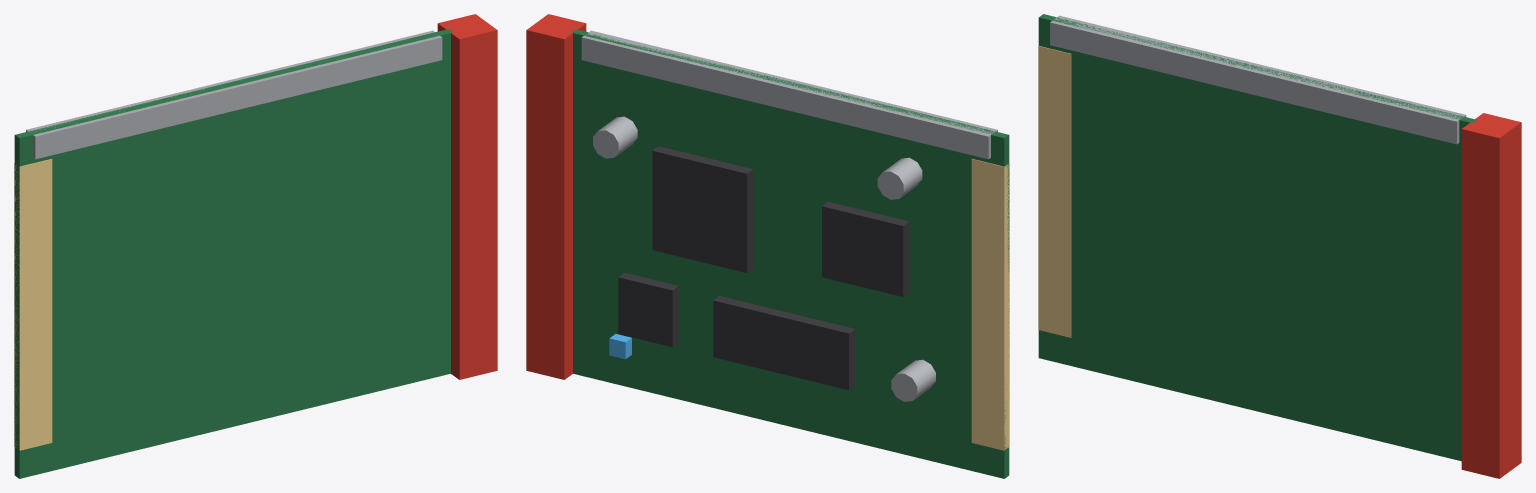
Rendered from SM_CircuitBoard.fbx.
The picture shows the model from 3 angles, left to right: view 1: azimuth 30°, elevation 25°; view 2: azimuth 150°, elevation 25°; view 3: azimuth 330°, elevation 25°; orthographic projection.
Parts seen in each view (by area): view 1: SM_CircuitBoard; view 2: SM_CircuitBoard; view 3: SM_CircuitBoard.
Boxes of the visible parts, x1=… form: SM_CircuitBoard: x1=14, y1=14, x2=497, y2=478; SM_CircuitBoard: x1=526, y1=14, x2=1009, y2=478; SM_CircuitBoard: x1=1038, y1=14, x2=1521, y2=478.
Size of the model in its own units: 0.173 by 0.12 by 0.0205.
